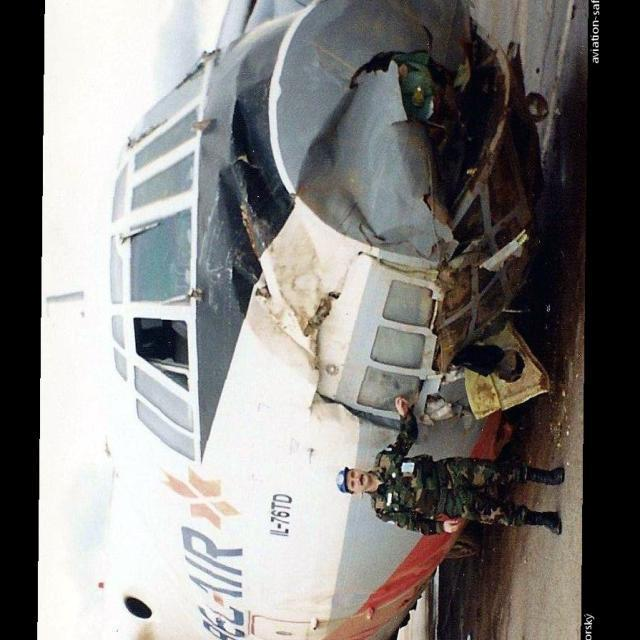dent: (300, 126, 372, 233)
